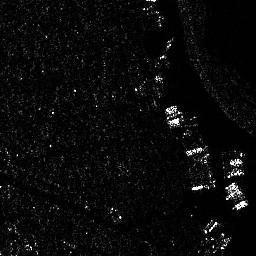ship: (225, 167, 245, 181)
